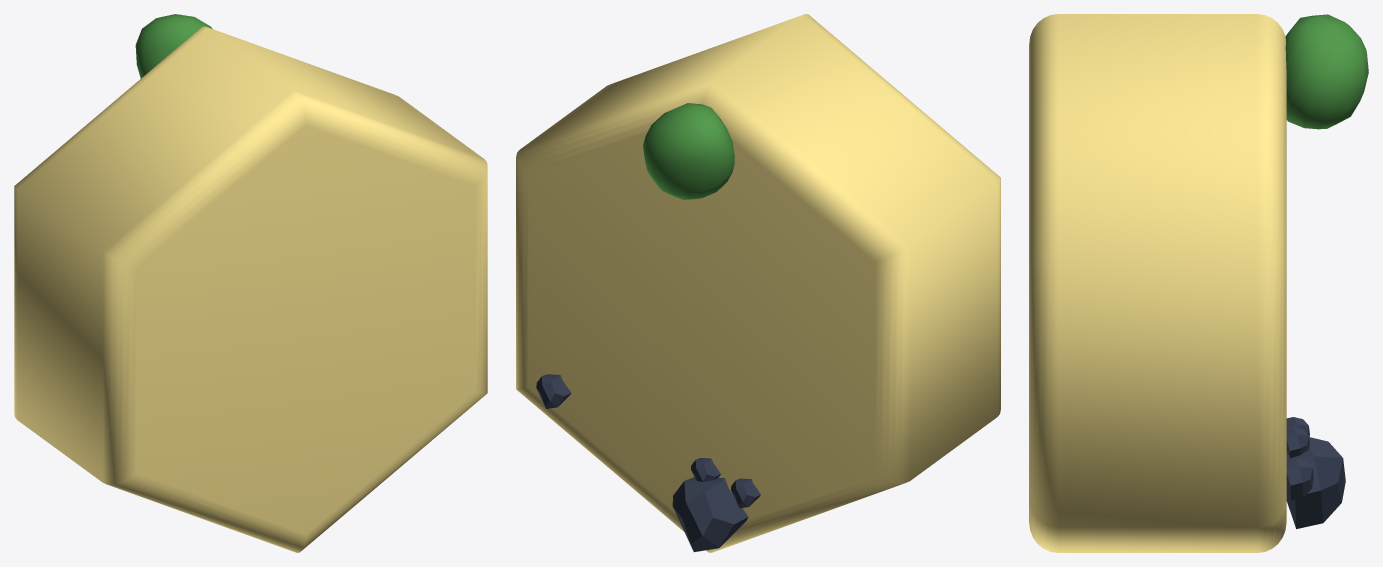
The model's file is SandTile1.fbx.
3 renders of one model, left to right at view 1: azimuth 30°, elevation 25°; view 2: azimuth 150°, elevation 25°; view 3: azimuth 270°, elevation 25°, orthographic. The views are drawn at different scales.
Parts seen in each view (by area): view 1: Circle.008; view 2: Circle.008; view 3: Circle.008.
Part boxes in pixels (box(x1,y1,x2,y2)): Circle.008: box(14, 14, 487, 552); Circle.008: box(516, 14, 1000, 552); Circle.008: box(1029, 14, 1368, 552).
Size of the model in its own units: 200 by 231 by 132.
